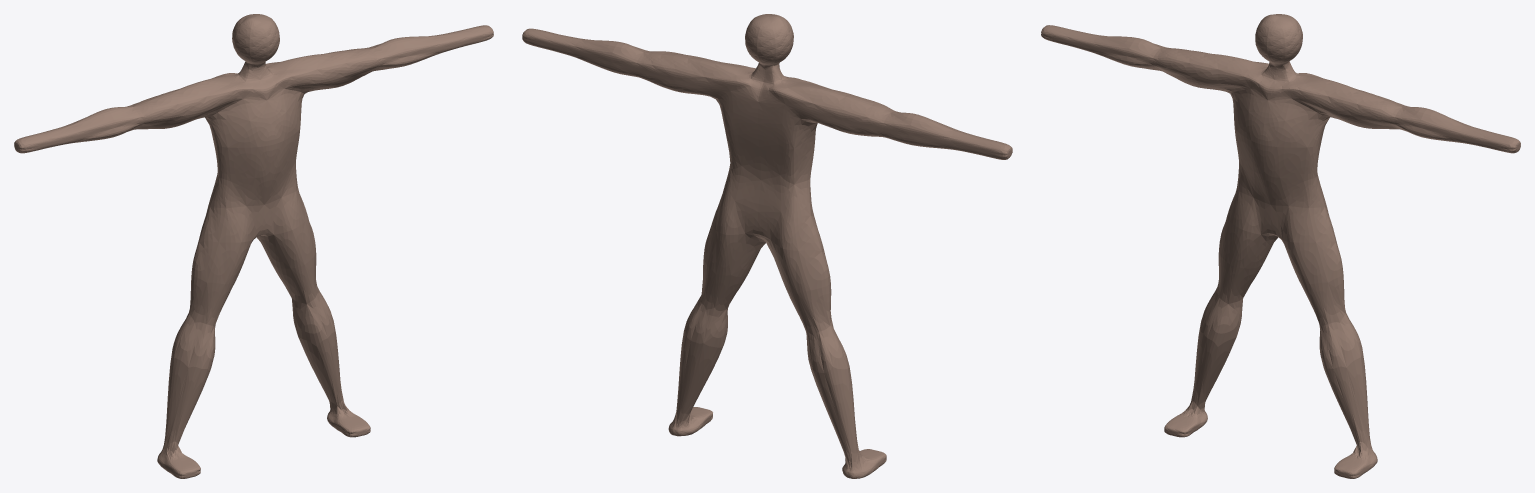
File: trial.obj
3 views of the same model, side by side, from view 1: azimuth 30°, elevation 25°; view 2: azimuth 150°, elevation 25°; view 3: azimuth 330°, elevation 25° (orthographic). The views are drawn at different scales.
Parts seen in each view (by area): view 1: Cube; view 2: Cube; view 3: Cube.
Part boxes in pixels (<box>): Cube: <box>14,14,493,478</box>; Cube: <box>522,14,1012,478</box>; Cube: <box>1041,14,1520,478</box>.
Bounding box in the file's own units: 17.67 × 15.2 × 2.29.
